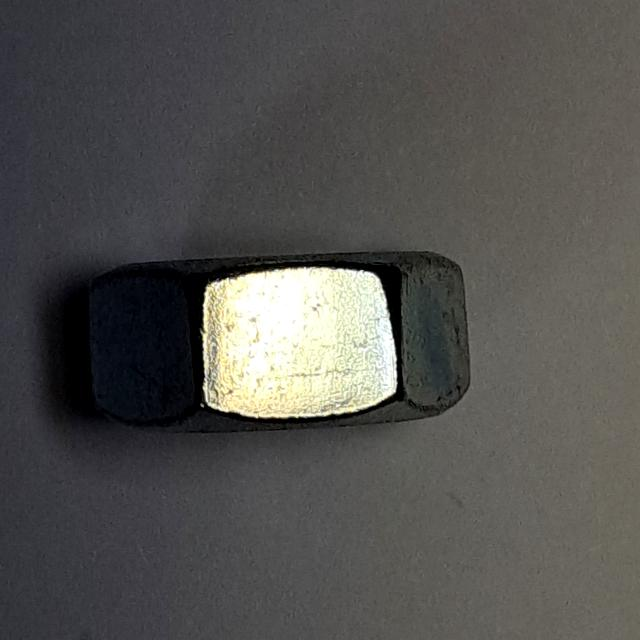Side_Excellent: (77, 229, 483, 465)
